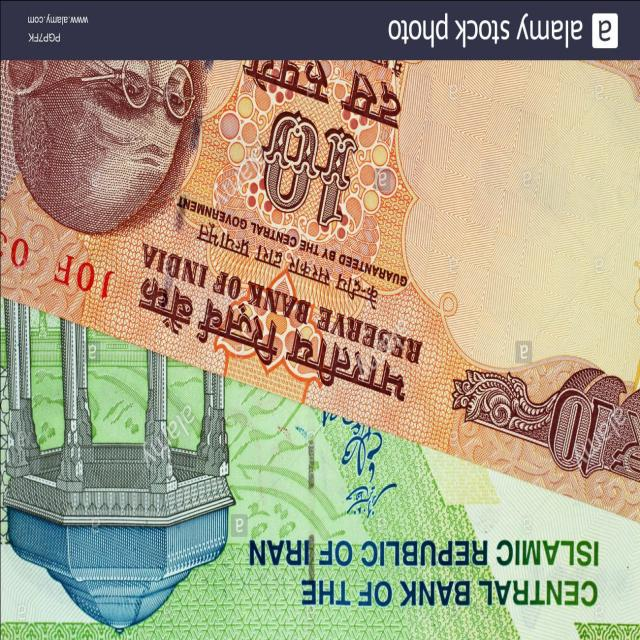10IndianRupees: (3, 61, 640, 498)
